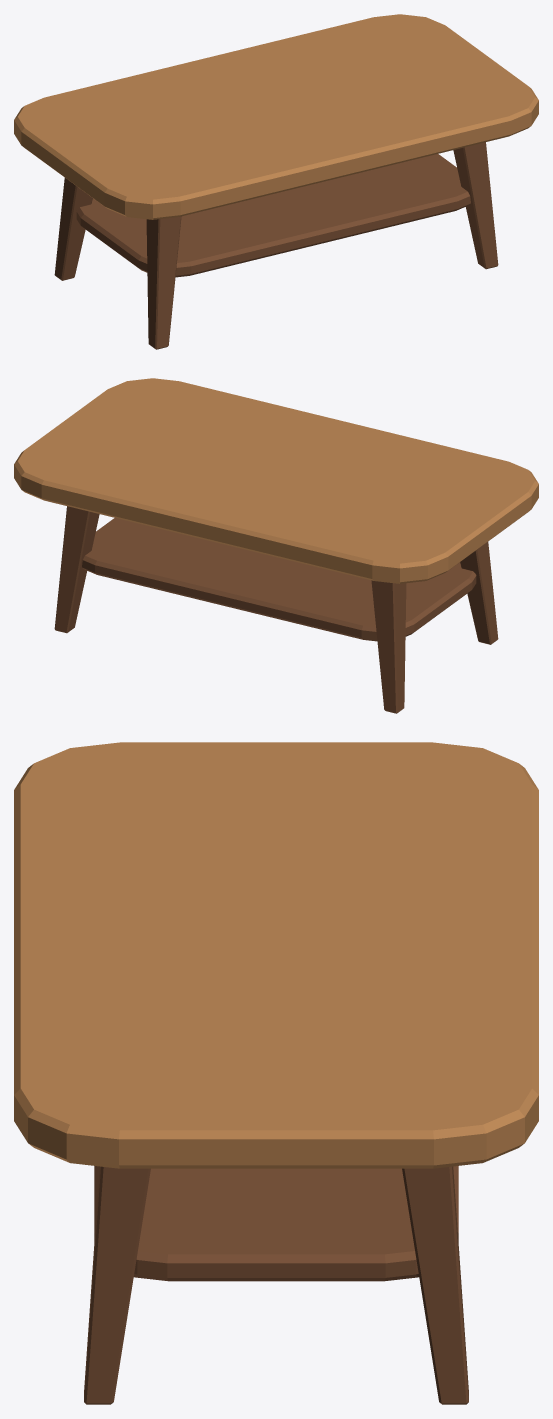
File: 05_coffee_table.glb
3 views of the same model, one above another, from view 1: azimuth 30°, elevation 25°; view 2: azimuth 150°, elevation 25°; view 3: azimuth 270°, elevation 25° (orthographic). The views are drawn at different scales.
Visible parts, largest first — view 1: Soft_rectangle_top, Open_lower_shelf, Tapered_leg_00.003, Tapered_leg_01.003, Tapered_leg_02.003; view 2: Soft_rectangle_top, Open_lower_shelf, Tapered_leg_02.003, Tapered_leg_03.003, Tapered_leg_00.003; view 3: Soft_rectangle_top, Open_lower_shelf, Tapered_leg_01.003, Tapered_leg_03.003.
Part boxes in pixels (box(x1,y1,x2,y2)): Soft_rectangle_top: box(14, 14, 538, 219); Open_lower_shelf: box(76, 154, 470, 277); Tapered_leg_00.003: box(146, 216, 181, 349); Tapered_leg_01.003: box(453, 142, 498, 269); Tapered_leg_02.003: box(54, 178, 92, 280); Soft_rectangle_top: box(14, 378, 538, 583); Open_lower_shelf: box(82, 518, 476, 641); Tapered_leg_02.003: box(371, 580, 406, 713); Tapered_leg_03.003: box(54, 506, 99, 633); Tapered_leg_00.003: box(460, 542, 498, 644); Soft_rectangle_top: box(14, 742, 538, 1168); Open_lower_shelf: box(94, 1166, 458, 1281); Tapered_leg_01.003: box(84, 1166, 150, 1404); Tapered_leg_03.003: box(402, 1166, 468, 1404).
Size of the model in its own units: 1.1 by 0.405 by 0.62.
